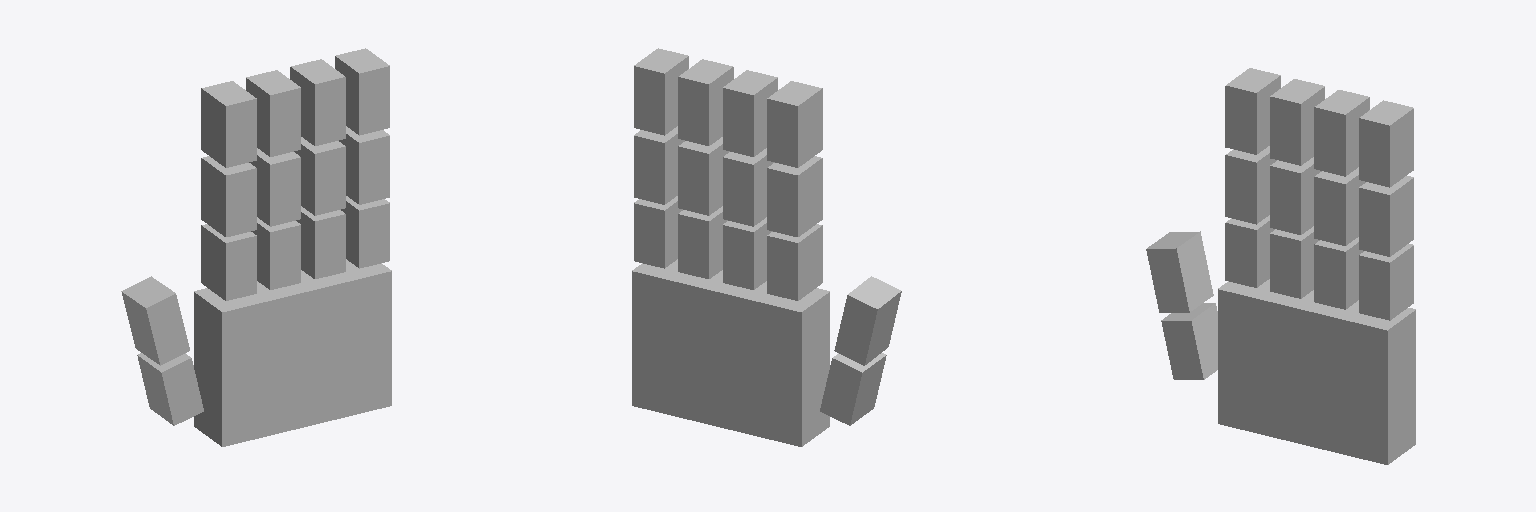
File: Hand03.obj
The picture shows the model from 3 angles: view 1: azimuth 30°, elevation 25°; view 2: azimuth 150°, elevation 25°; view 3: azimuth 330°, elevation 25°; orthographic projection.
Parts seen in each view (by area): view 1: pCube4, pCube16, pCube17, pCube12, pCube14, pCube15, pCube13, pCube11, pCube18, pCube8, pCube6, pCube10 (+3 smaller); view 2: pCube4, pCube16, pCube17, pCube12, pCube14, pCube15, pCube13, pCube11, pCube18, pCube8, pCube6, pCube10 (+3 smaller); view 3: pCube4, pCube17, pCube13, pCube6, pCube14, pCube16, pCube15, pCube18, pCube5, pCube8, pCube12, pCube10 (+3 smaller).
Part boxes in pixels (bbox=[...]): pCube4: bbox=[194, 259, 391, 446]; pCube16: bbox=[201, 81, 256, 167]; pCube17: bbox=[121, 276, 189, 365]; pCube12: bbox=[201, 156, 256, 236]; pCube14: bbox=[290, 59, 345, 145]; pCube15: bbox=[246, 70, 300, 156]; pCube13: bbox=[335, 48, 389, 135]; pCube11: bbox=[201, 224, 256, 300]; pCube18: bbox=[137, 353, 203, 425]; pCube8: bbox=[294, 137, 345, 215]; pCube6: bbox=[339, 126, 389, 204]; pCube10: bbox=[249, 148, 300, 226]; pCube4: bbox=[632, 259, 829, 446]; pCube16: bbox=[767, 81, 822, 167]; pCube17: bbox=[834, 276, 901, 365]; pCube12: bbox=[767, 156, 822, 236]; pCube14: bbox=[678, 59, 733, 145]; pCube15: bbox=[723, 70, 777, 156]; pCube13: bbox=[634, 48, 688, 135]; pCube11: bbox=[767, 224, 822, 300]; pCube18: bbox=[820, 353, 886, 425]; pCube8: bbox=[678, 137, 729, 215]; pCube6: bbox=[634, 126, 684, 204]; pCube10: bbox=[723, 148, 774, 226]; pCube4: bbox=[1218, 279, 1415, 464]; pCube17: bbox=[1146, 231, 1213, 312]; pCube13: bbox=[1359, 100, 1413, 187]; pCube6: bbox=[1359, 176, 1413, 256]; pCube14: bbox=[1314, 90, 1369, 176]; pCube16: bbox=[1225, 68, 1280, 154]; pCube15: bbox=[1270, 79, 1324, 165]; pCube18: bbox=[1161, 303, 1217, 379]; pCube5: bbox=[1359, 244, 1413, 320]; pCube8: bbox=[1314, 167, 1365, 245]; pCube12: bbox=[1225, 146, 1276, 224]; pCube10: bbox=[1270, 157, 1321, 234].
Bounding box in the file's own units: 8.54 × 11.28 × 1.74.